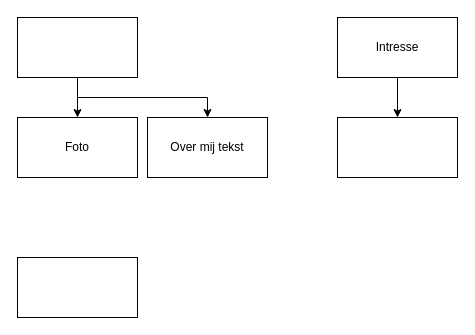
This 475x335 diagram has some shape labels left out. The centre of each missing label's shape, as x and y in pixels:
"About" goes at [77,47].
"Mijn intresse tekst" goes at [397,147].
